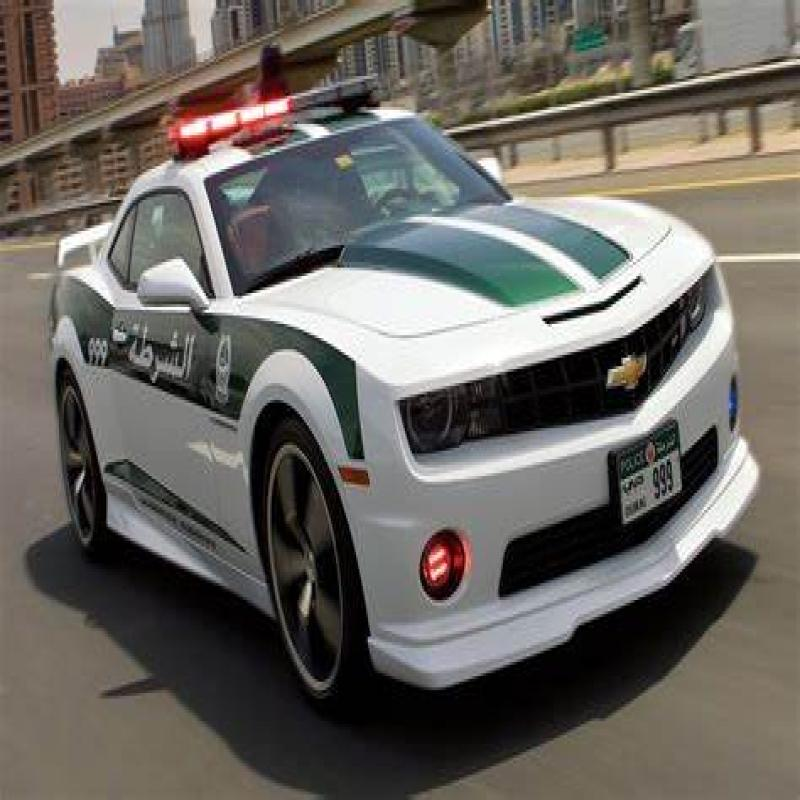AmbulanceSiren: (164, 101, 374, 164)
car: (25, 164, 790, 746)
